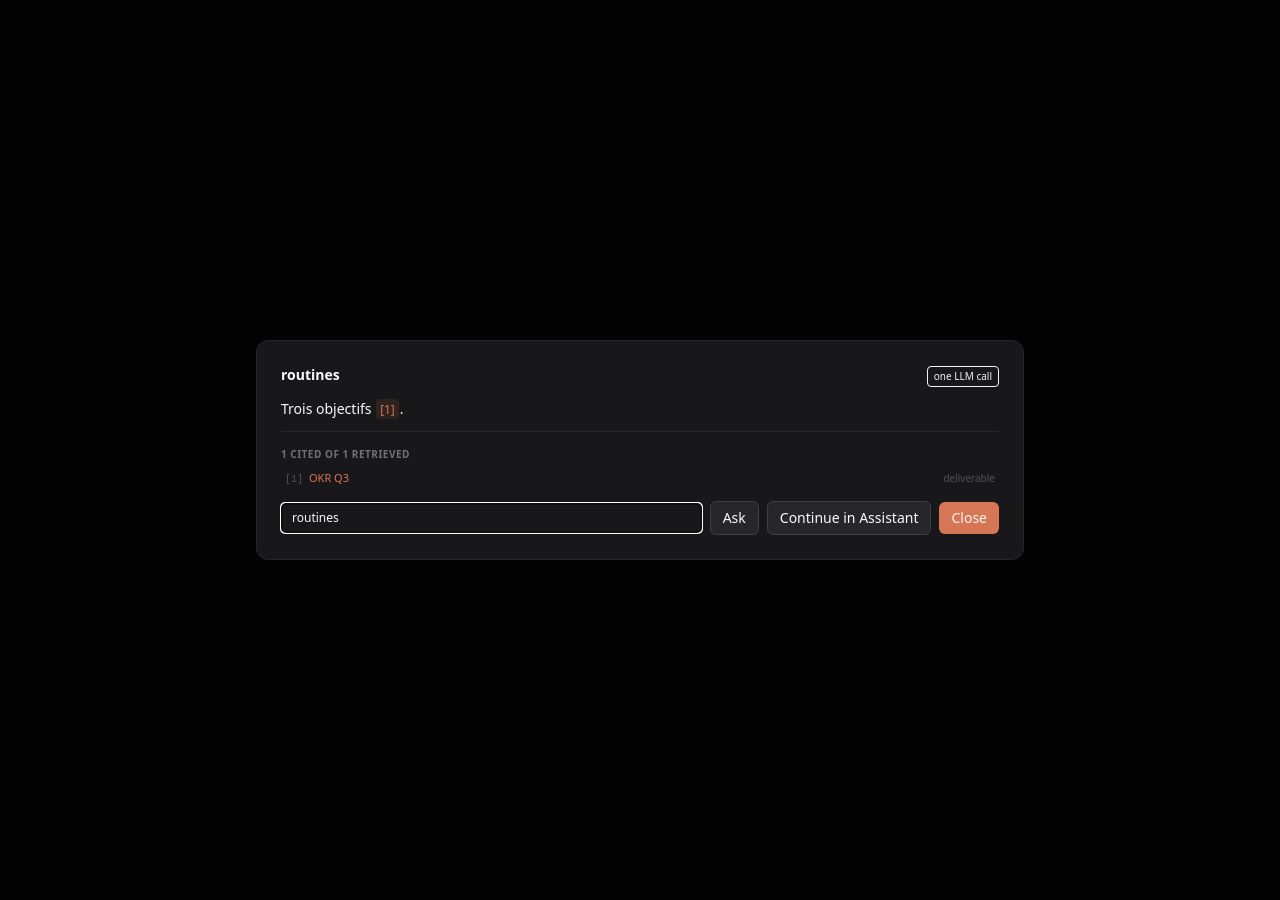
AskMemoryModal — recorded history › says which of the two things the button will do
The image size is (1280, 900).
Expected: the text "Trois objectifs [1] ." is shown, 281,399 -> 404,419
Expected: the button "Continue in Assistant" is shown, 767,501 -> 932,535
Step 1. Replace the text in the field with placeholder "Ask something else…" with "et le KR2.1 ?" → (491, 518), box 281,503 -> 702,533
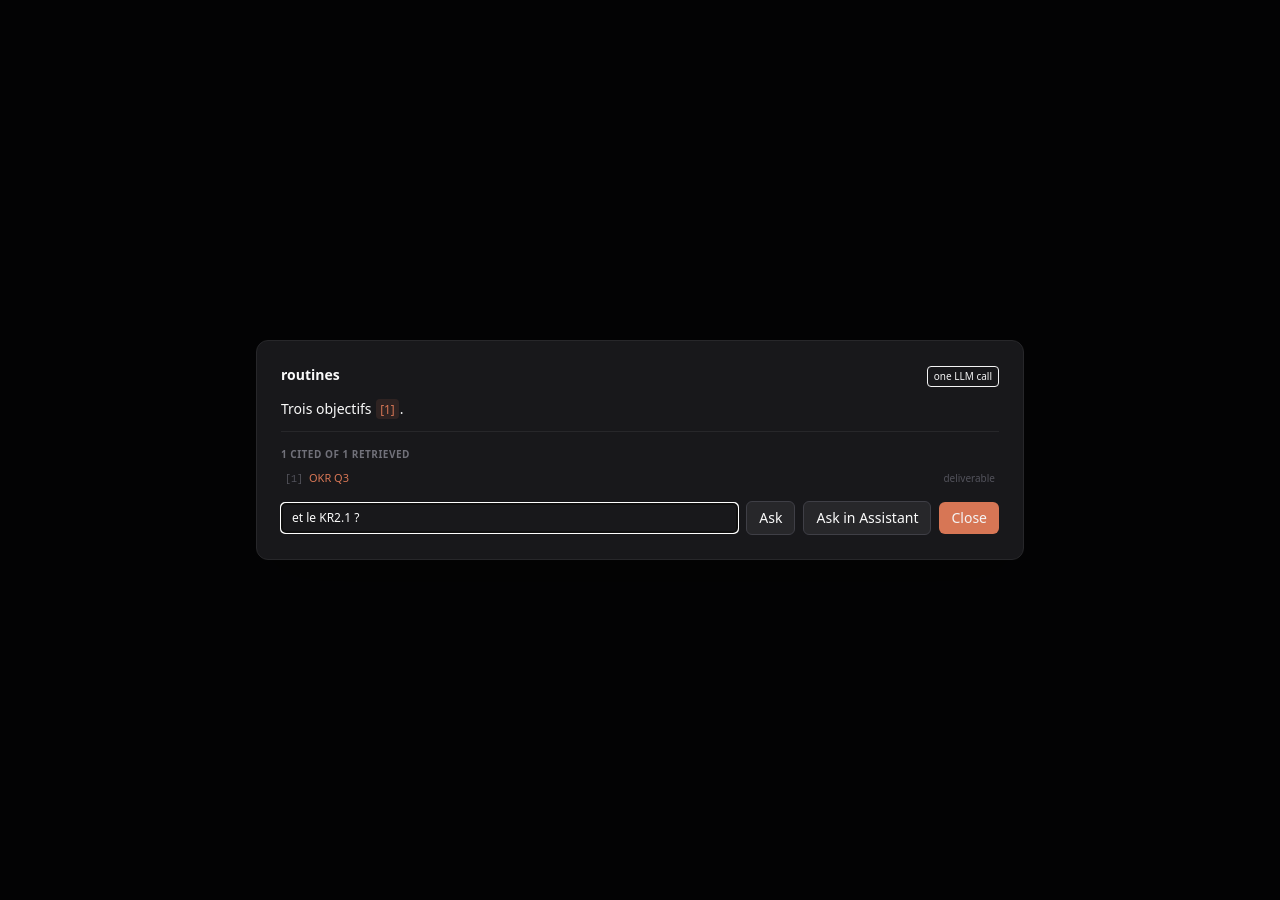
Expected: the button "Continue in Assistant" is gone
Expected: the button "Ask in Assistant" is shown, 804,501 -> 932,535
